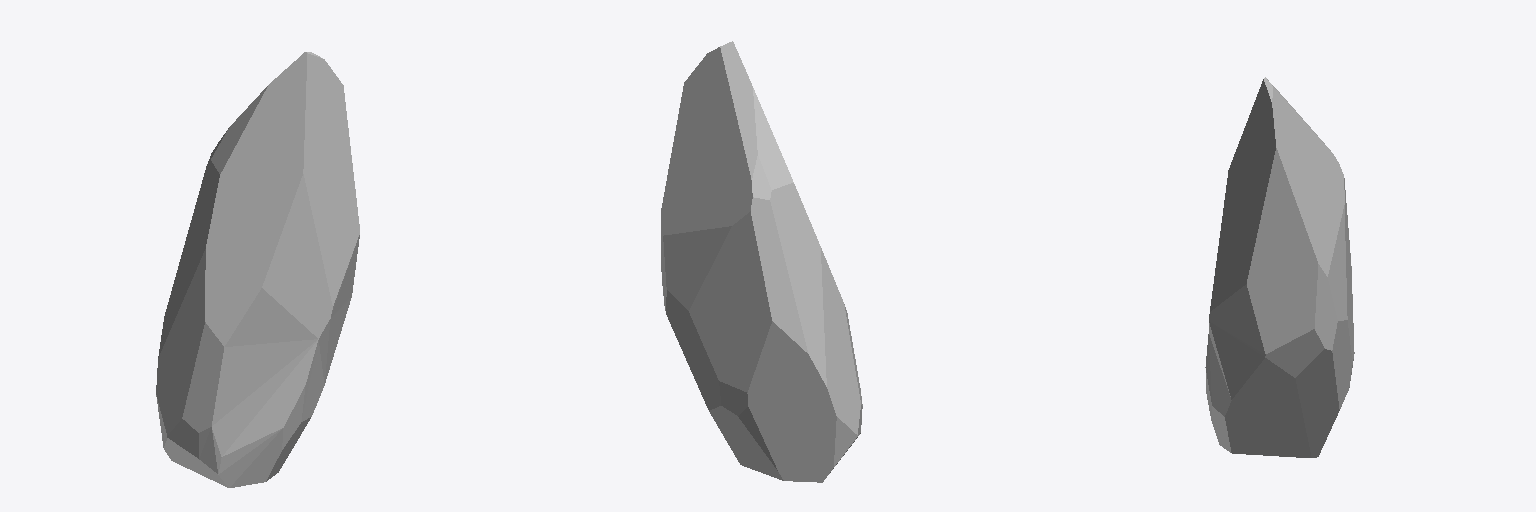
File: heiRock1.obj
3 views of the same model, side by side, from view 1: azimuth 30°, elevation 25°; view 2: azimuth 150°, elevation 25°; view 3: azimuth 270°, elevation 25° (orthographic).
Visible parts, largest first — view 1: Sphere_005; view 2: Sphere_005; view 3: Sphere_005.
Part boxes in pixels (x1,y1,x2,y2): Sphere_005: (156, 52, 359, 487); Sphere_005: (661, 41, 862, 482); Sphere_005: (1205, 77, 1354, 457).
Size of the model in its own units: 90.27 by 193 by 65.35.